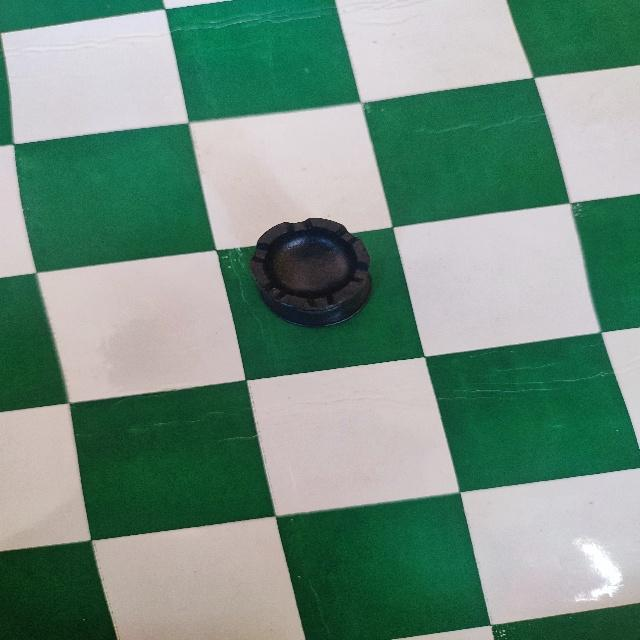Rook: (248, 214, 379, 330)
